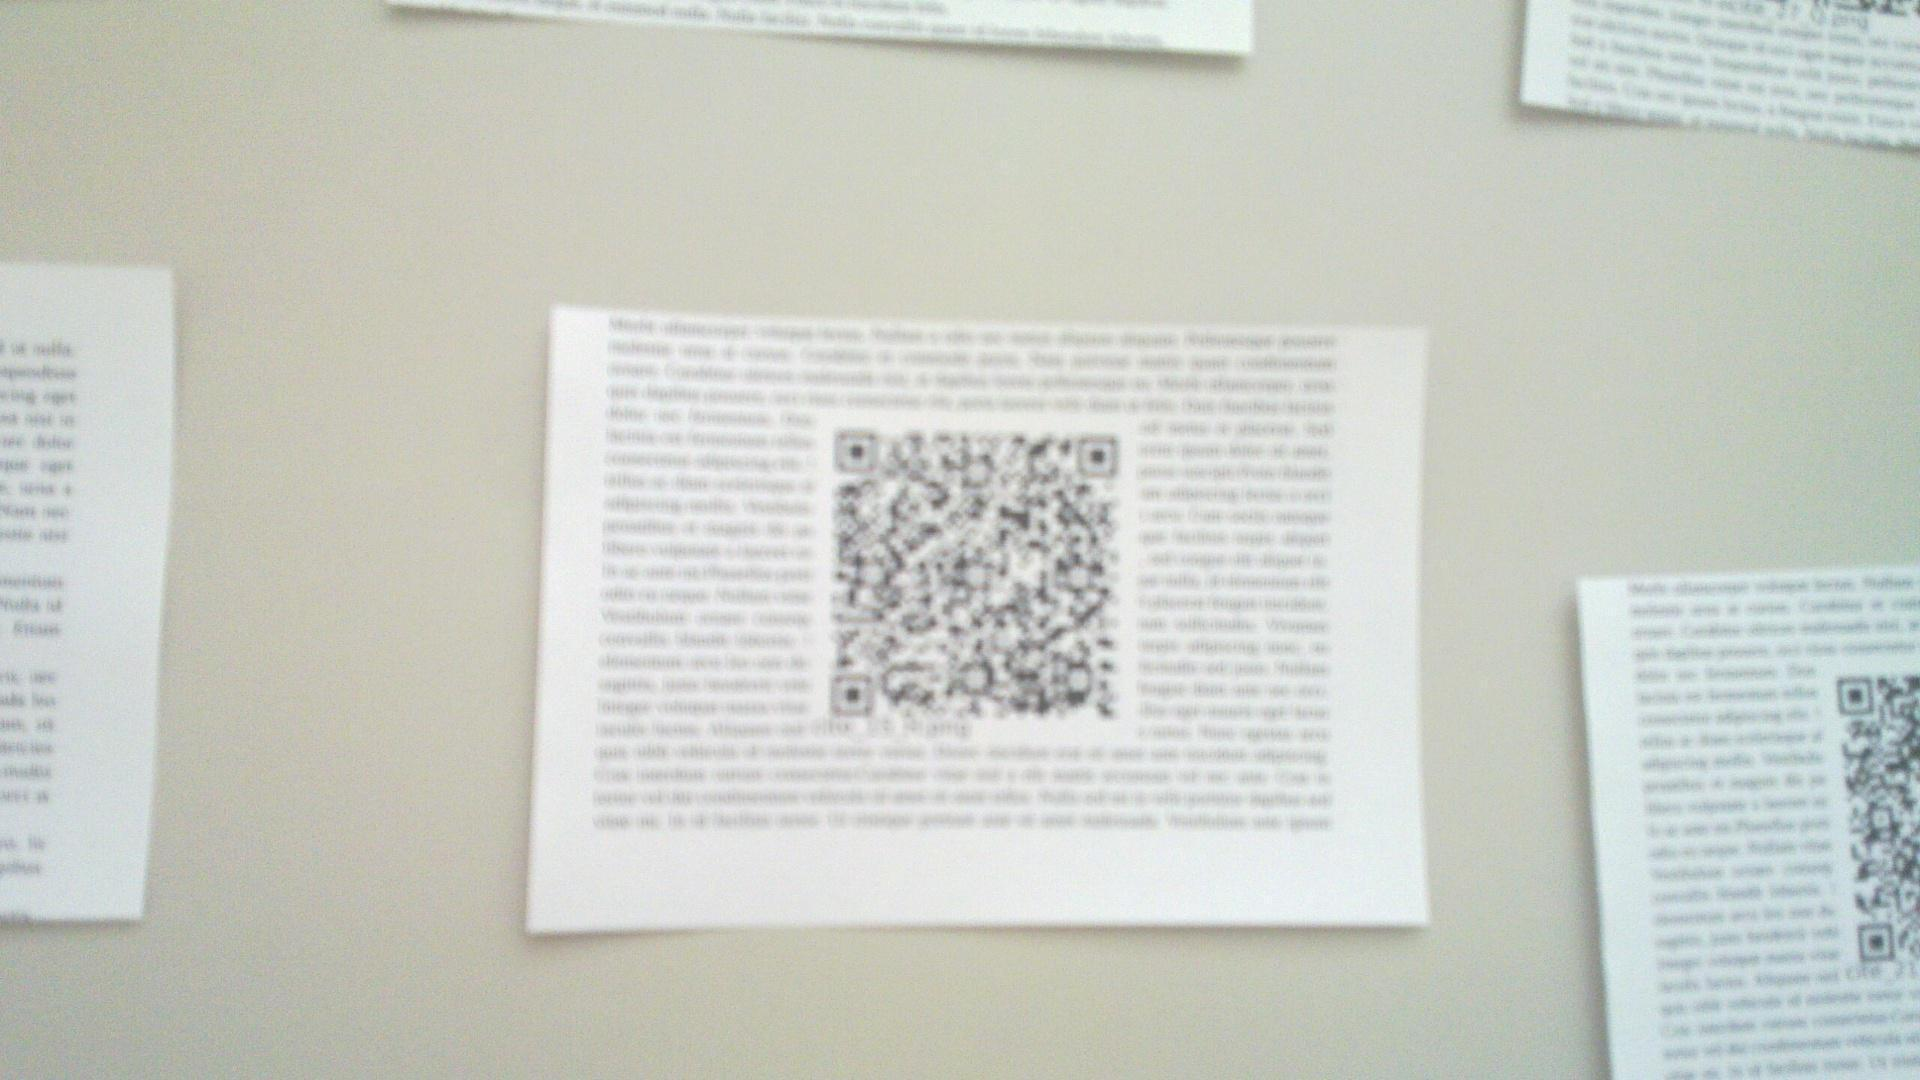qr_code: (829, 431, 1120, 719)
